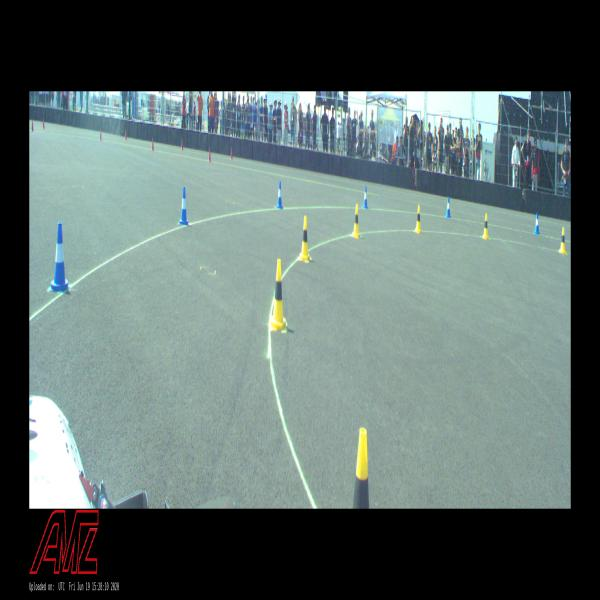blue_cone: (51, 222, 68, 291), (179, 187, 188, 225), (276, 181, 283, 209), (534, 212, 540, 234), (445, 196, 451, 218), (363, 186, 368, 209)
yellow_cone: (353, 428, 369, 508), (270, 259, 286, 331), (299, 216, 310, 260), (352, 204, 360, 238), (414, 205, 422, 233), (559, 227, 566, 254), (482, 212, 489, 238)
